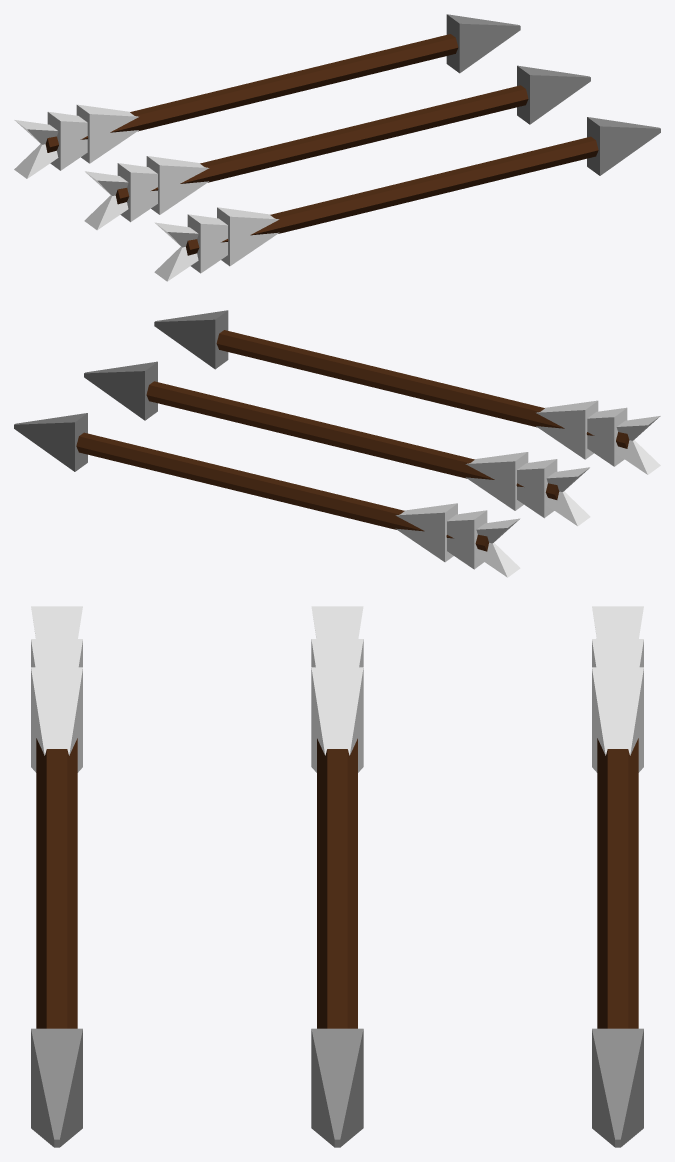
Rendered from Arrows.fbx.
3 views of the same model, one above another, from view 1: azimuth 30°, elevation 25°; view 2: azimuth 150°, elevation 25°; view 3: azimuth 270°, elevation 25° (orthographic). The views are drawn at different scales.
Visible parts, largest first — view 1: Cylinder; view 2: Cylinder; view 3: Cylinder.
Boxes of the visible parts, x1,y1,x2,y2 form: Cylinder: (14, 14, 660, 281); Cylinder: (14, 310, 660, 577); Cylinder: (31, 606, 643, 1147).
Size of the model in its own units: 247 by 23.51 by 131.
